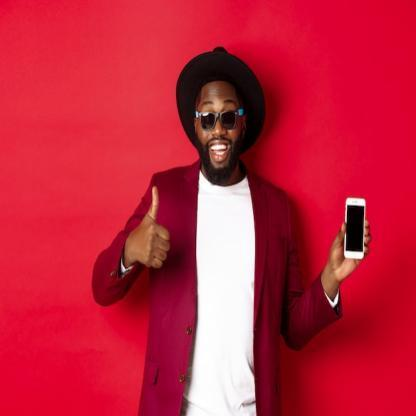thumb_up: (130, 183, 173, 271)
